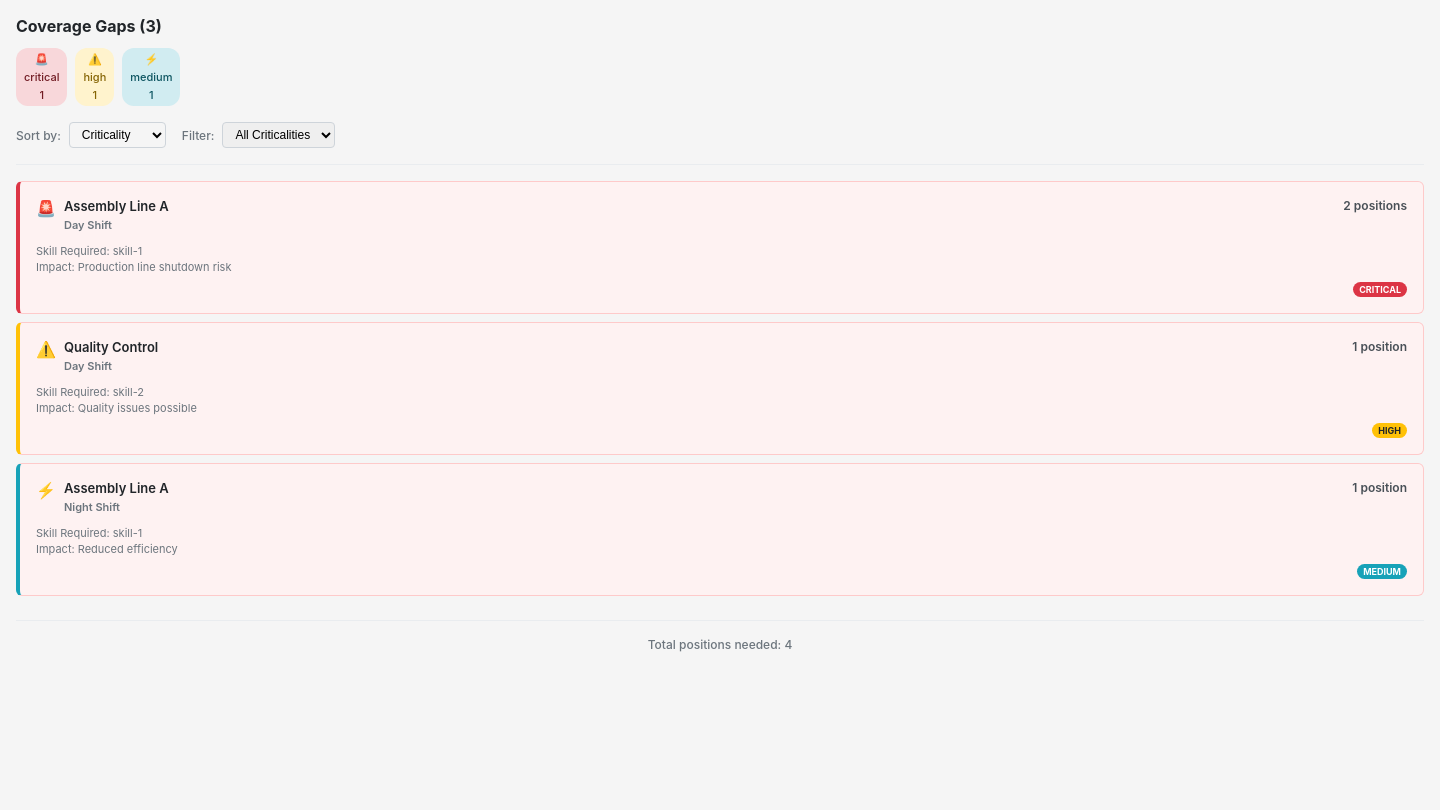
Test case: GapList › sorts gaps by station
Step 1. Select "Station" in the dropdown showing "Criticality" next to "Sort by:" → coordinates (117, 135), box [69, 122, 166, 148]
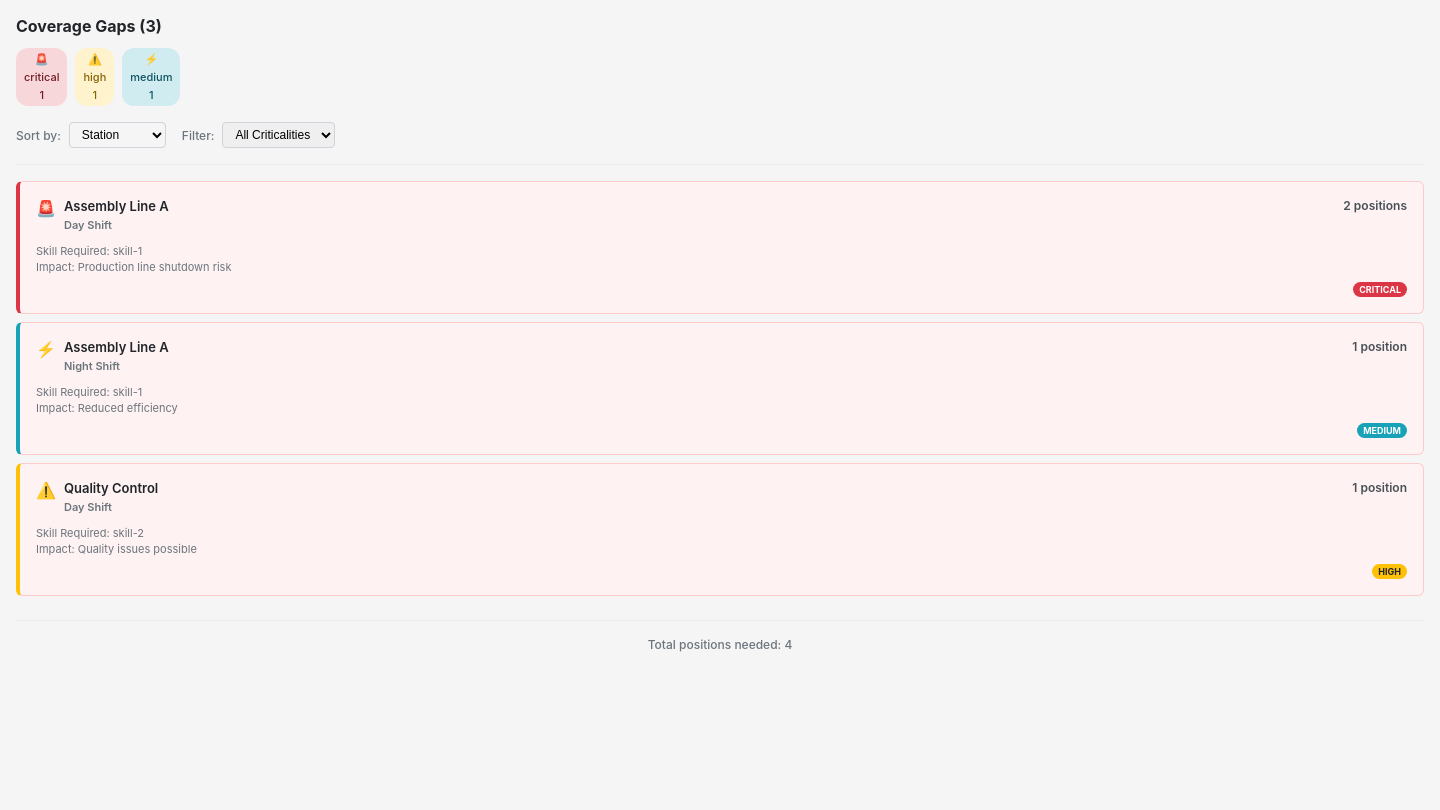
Expected: the 1st text "Assembly Line A" is shown, [64, 198, 169, 214]
Expected: the 2nd text "Assembly Line A" is shown, [64, 339, 169, 355]
Expected: the text "Quality Control" is shown, [64, 480, 158, 496]
